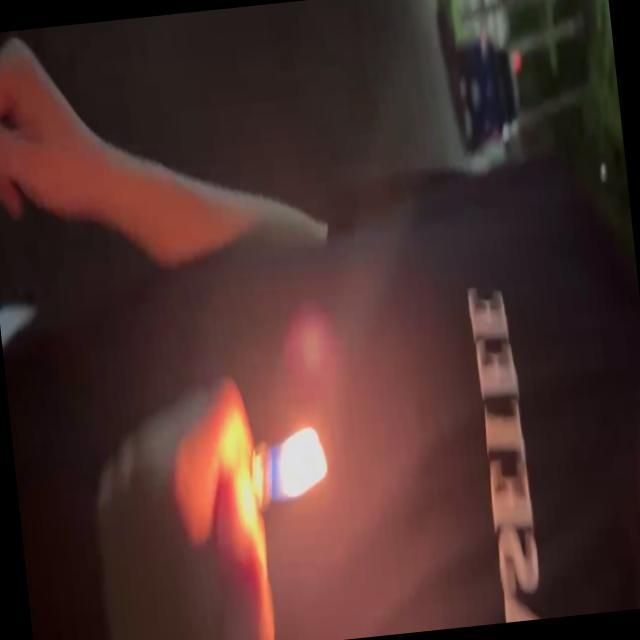Fire: (262, 423, 334, 502)
